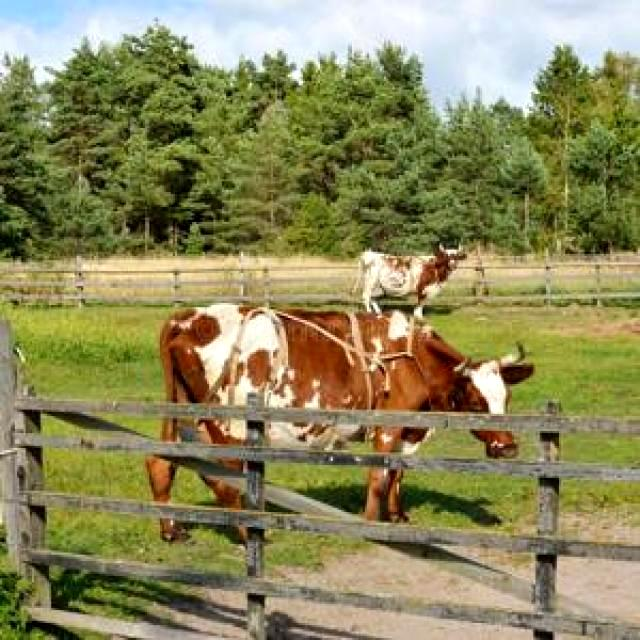COW: (160, 304, 534, 413), (266, 421, 429, 453), (146, 458, 241, 508), (162, 418, 245, 444), (366, 469, 404, 521), (161, 520, 185, 541)
